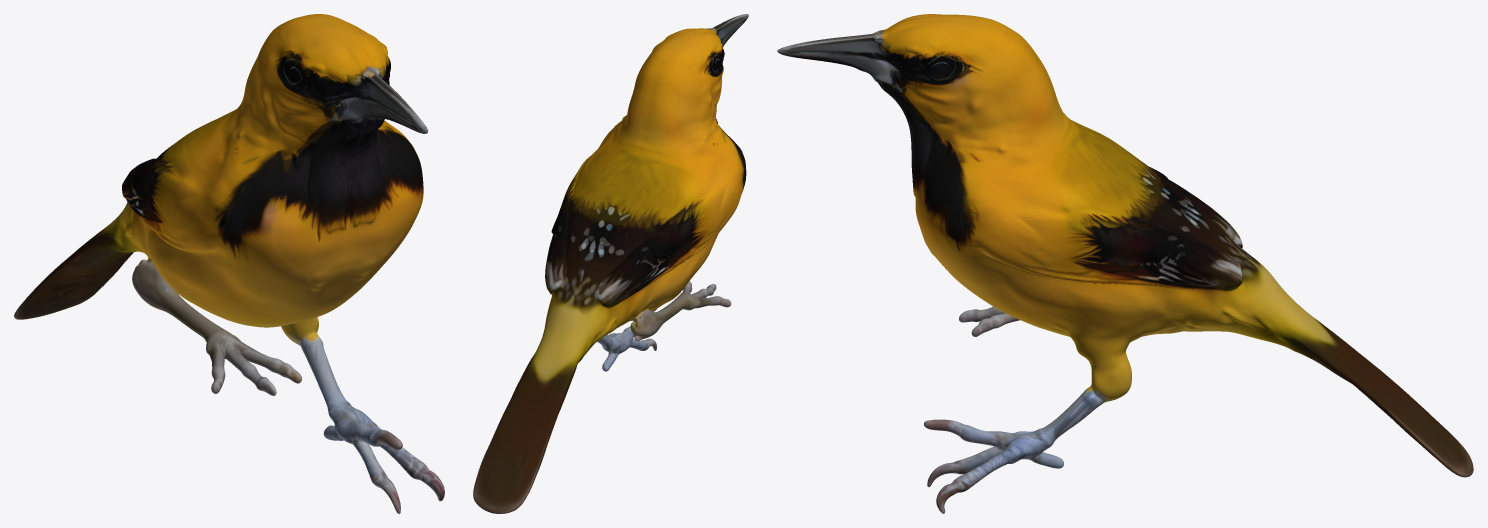
Rendered from Gonzalito 3D.glb.
3 views of the same model, side by side, from view 1: azimuth 30°, elevation 25°; view 2: azimuth 150°, elevation 25°; view 3: azimuth 270°, elevation 25° (orthographic). The views are drawn at different scales.
Visible parts, largest first — view 1: tripo_node_fedd1916-1c8a-4b5d-b621-fc5bd16656a7; view 2: tripo_node_fedd1916-1c8a-4b5d-b621-fc5bd16656a7; view 3: tripo_node_fedd1916-1c8a-4b5d-b621-fc5bd16656a7.
Part boxes in pixels (x1=…): tripo_node_fedd1916-1c8a-4b5d-b621-fc5bd16656a7: x1=14, y1=14, x2=444, y2=513; tripo_node_fedd1916-1c8a-4b5d-b621-fc5bd16656a7: x1=473, y1=14, x2=748, y2=513; tripo_node_fedd1916-1c8a-4b5d-b621-fc5bd16656a7: x1=777, y1=14, x2=1473, y2=513.
Size of the model in its own units: 0.3197 by 0.7148 by 1.
1 material, 1 textured.
